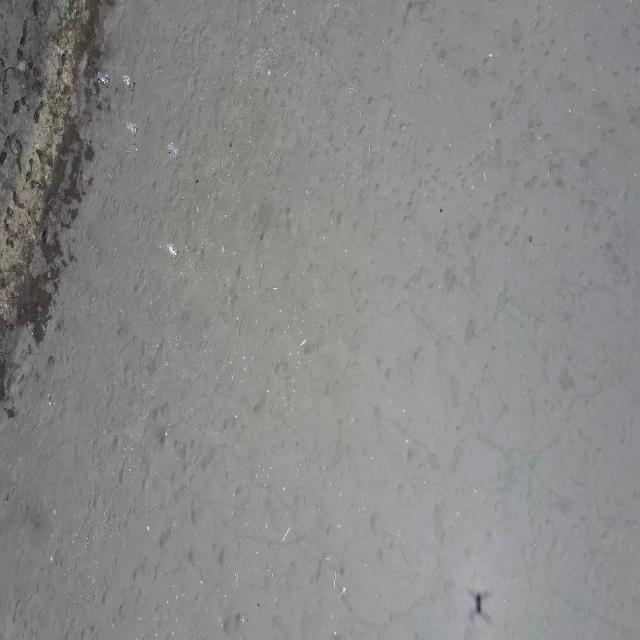takeaway-cup: (166, 243, 178, 259), (124, 75, 134, 90), (168, 143, 178, 158), (98, 72, 108, 86), (127, 122, 136, 134)
